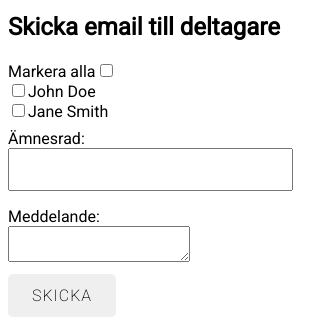
it: SendGroupEmail component functionality › allows selecting all students
The width and height of the screenshot is (320, 334).
Note: Check the "Select All" checkbox
What coordinates should you click on to do the following:
click the checkbox labelled "Markera alla"
I would click on:
 (106, 70)
Its box is x1=100 y1=64 x2=112 y2=77.
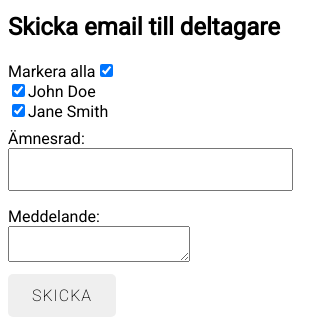
Now the checkbox labelled "Markera alla" is checked, box x1=100 y1=64 x2=112 y2=77
Now the checkbox showing "john.doe@example.com" is checked, box x1=12 y1=84 x2=25 y2=97
Now the checkbox showing "jane.smith@example.com" is checked, box x1=12 y1=104 x2=25 y2=117
